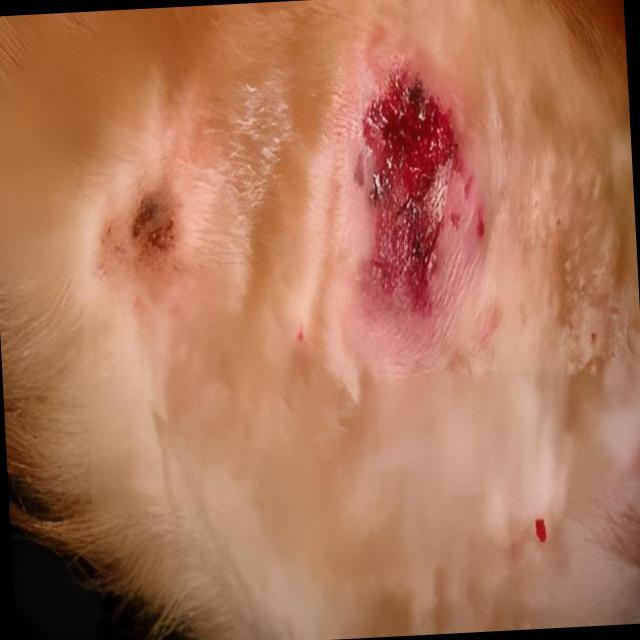allergic dermatitis: (334, 70, 482, 339)
